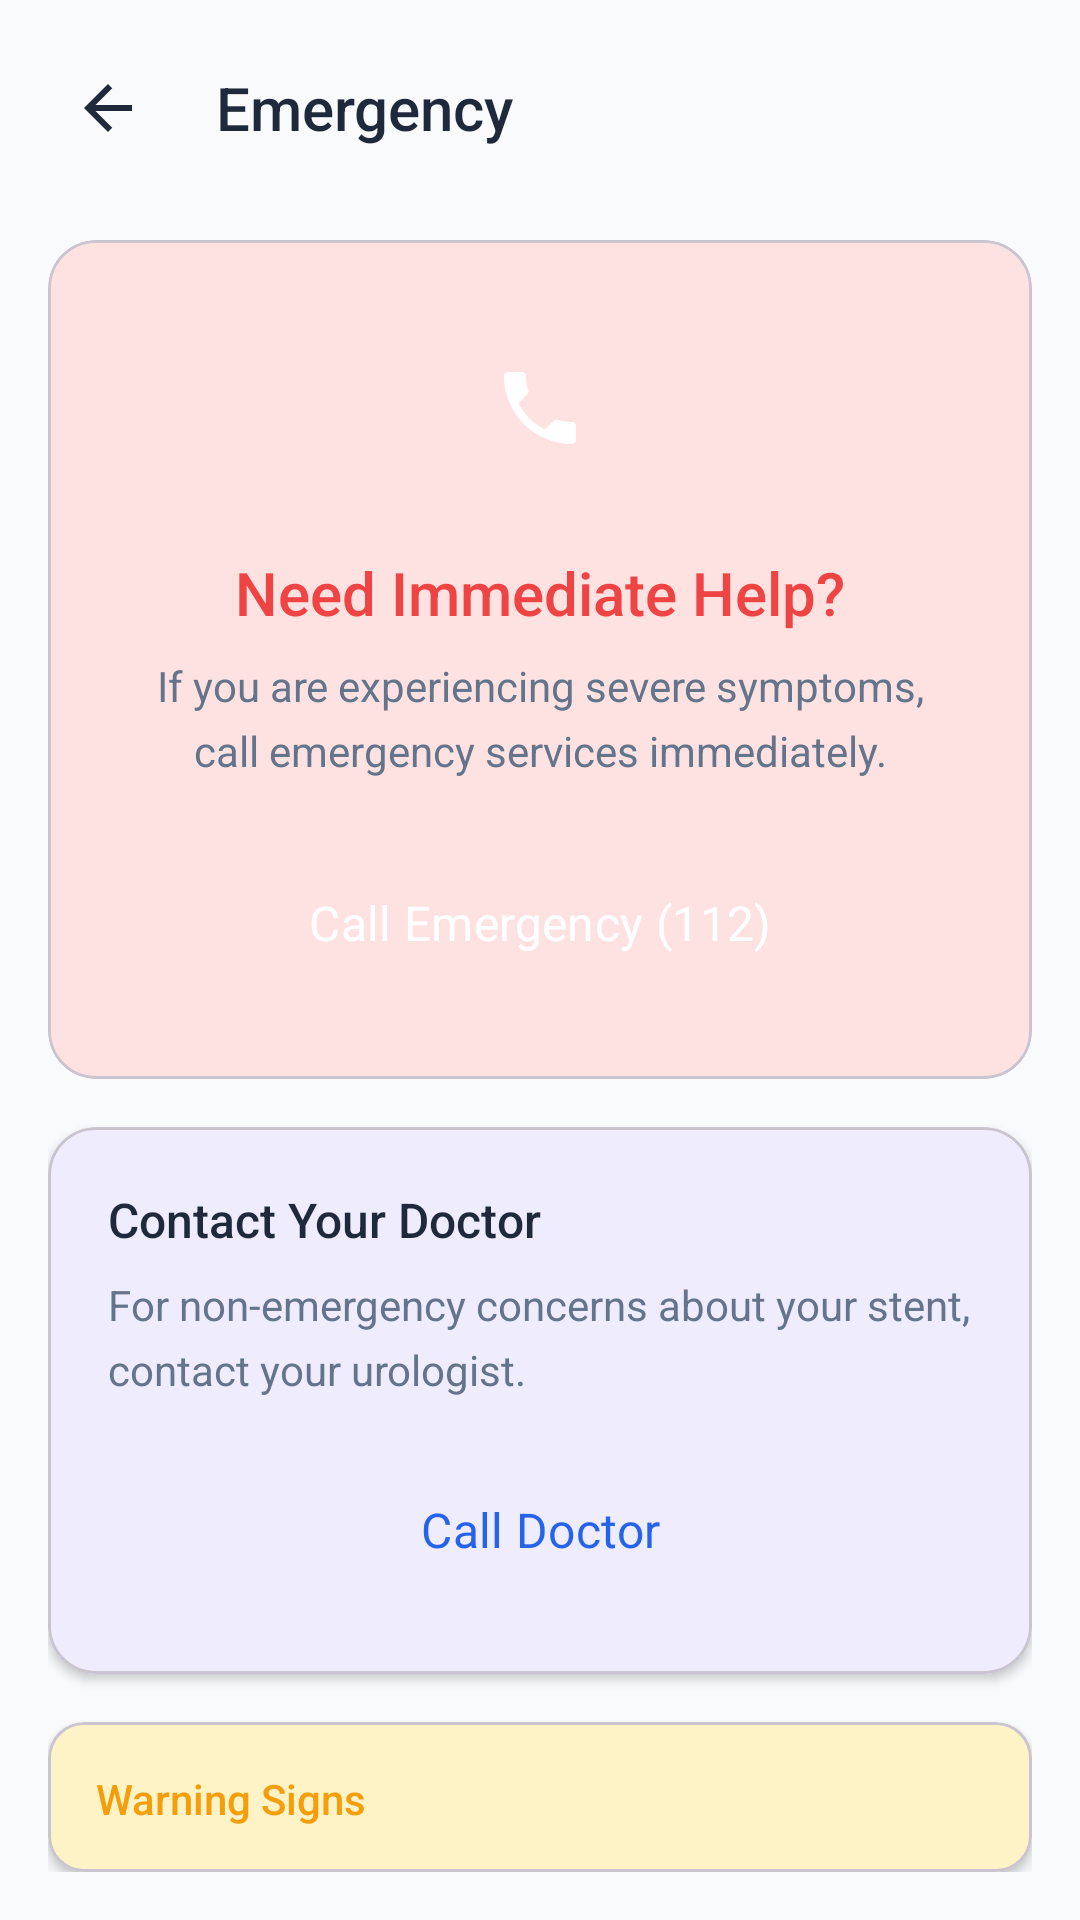

Where to tap for icons on this 1080x1920 app screen, as point (x, y):
Back: point (108, 108)
emergency: point (540, 408)
